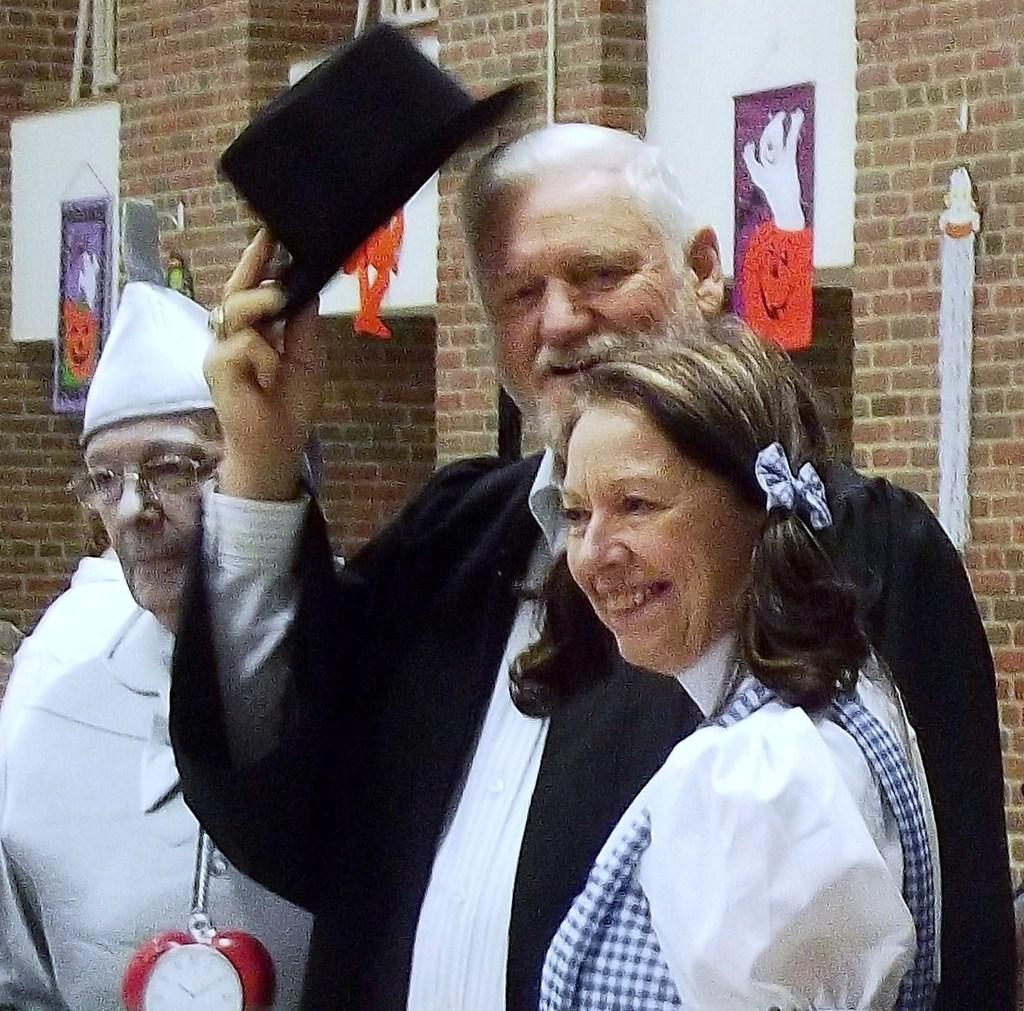Hat: (218, 19, 526, 320)
